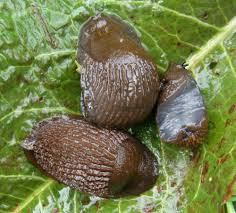slug: (25, 116, 154, 192), (79, 18, 154, 126), (154, 60, 208, 144)
